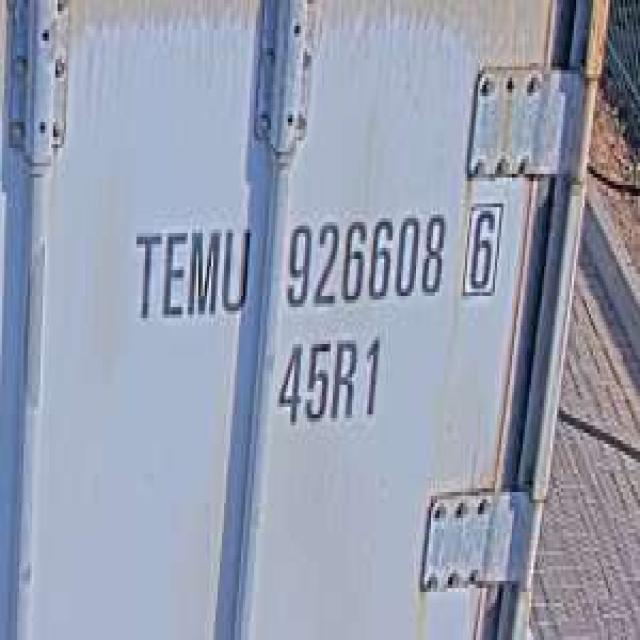dv: (458, 189, 506, 307)
owner: (126, 207, 254, 333)
serial: (277, 200, 448, 314)
size: (271, 325, 386, 433)
